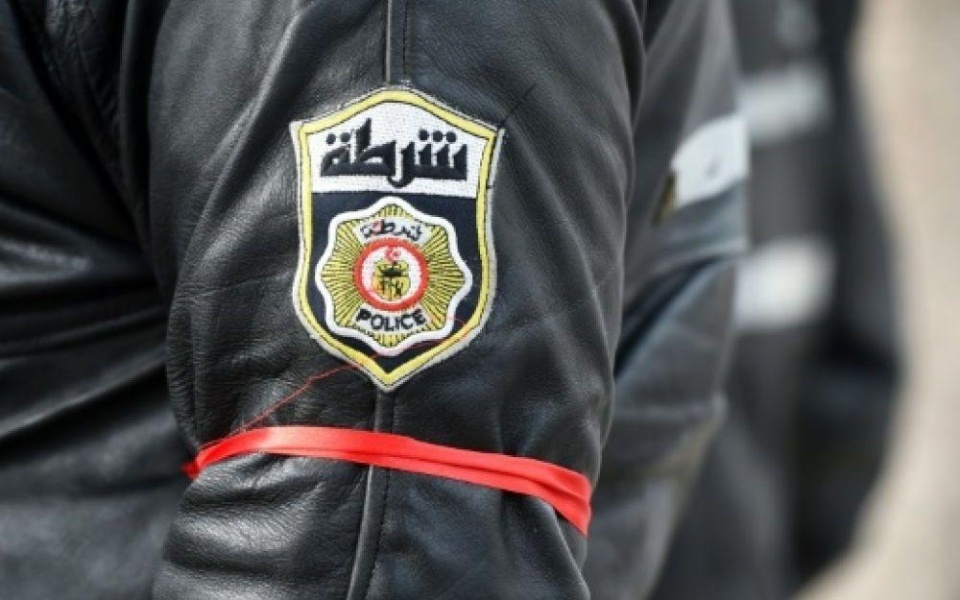text: (321, 117, 336, 193), (337, 117, 352, 193), (353, 117, 368, 193), (369, 117, 384, 193), (385, 117, 400, 193), (401, 117, 416, 193), (417, 117, 432, 193), (433, 117, 448, 193), (449, 117, 464, 193), (417, 217, 433, 241), (465, 117, 470, 193), (369, 217, 384, 241), (385, 217, 400, 241), (401, 217, 416, 241), (369, 308, 384, 332), (385, 308, 400, 332), (401, 308, 416, 332), (417, 308, 432, 332), (354, 308, 368, 332), (359, 217, 368, 241), (319, 117, 320, 193)
